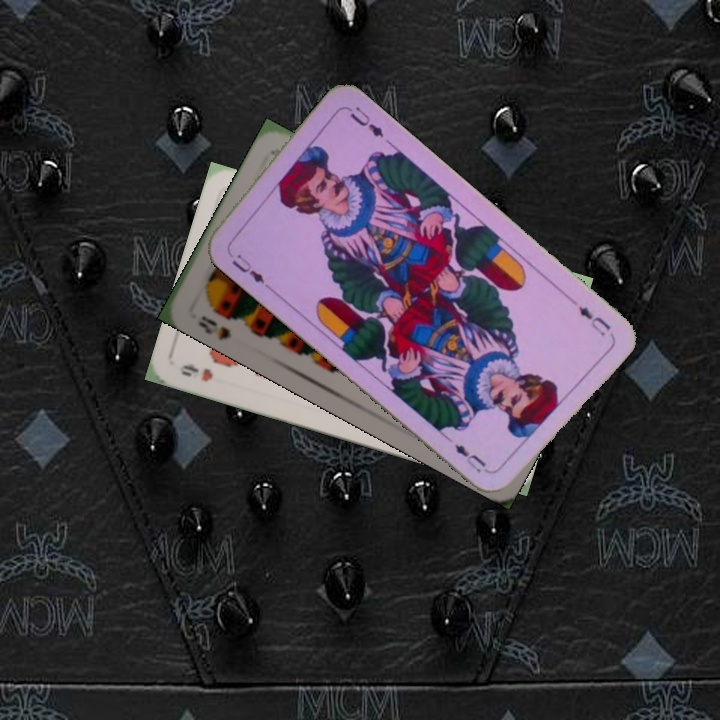EU: (223, 246, 272, 290), (574, 301, 614, 339)
H9: (175, 360, 216, 385)
S8: (194, 311, 234, 343)
